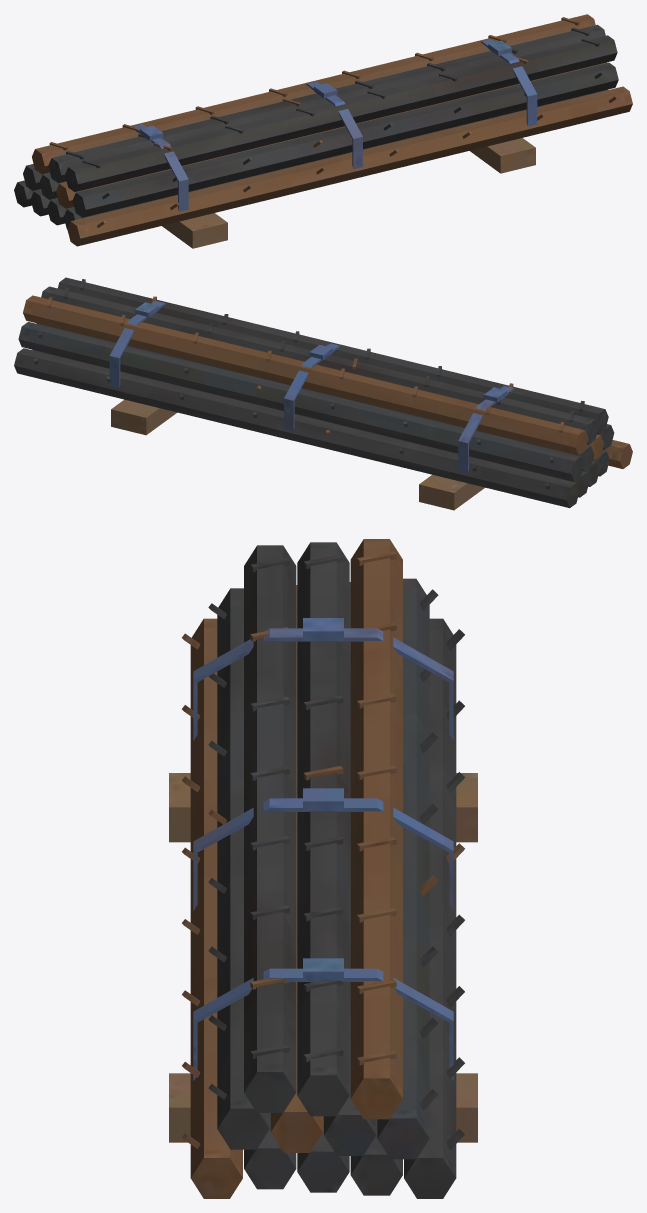
Rendered from CS07_rebar_bundle_v1.glb.
The picture shows the model from 3 angles, top to bottom: view 1: azimuth 30°, elevation 25°; view 2: azimuth 150°, elevation 25°; view 3: azimuth 270°, elevation 25°; orthographic projection. The views are drawn at different scales.
Visible parts, largest first — view 1: Timber bearer; view 2: Timber bearer; view 3: Timber bearer.
Part boxes in pixels (<box>): Timber bearer: <box>14,14,632,248</box>; Timber bearer: <box>14,277,632,510</box>; Timber bearer: <box>169,539,477,1198</box>.
Size of the model in its own units: 3 by 0.4644 by 0.7208.
4 materials, 4 textured.
